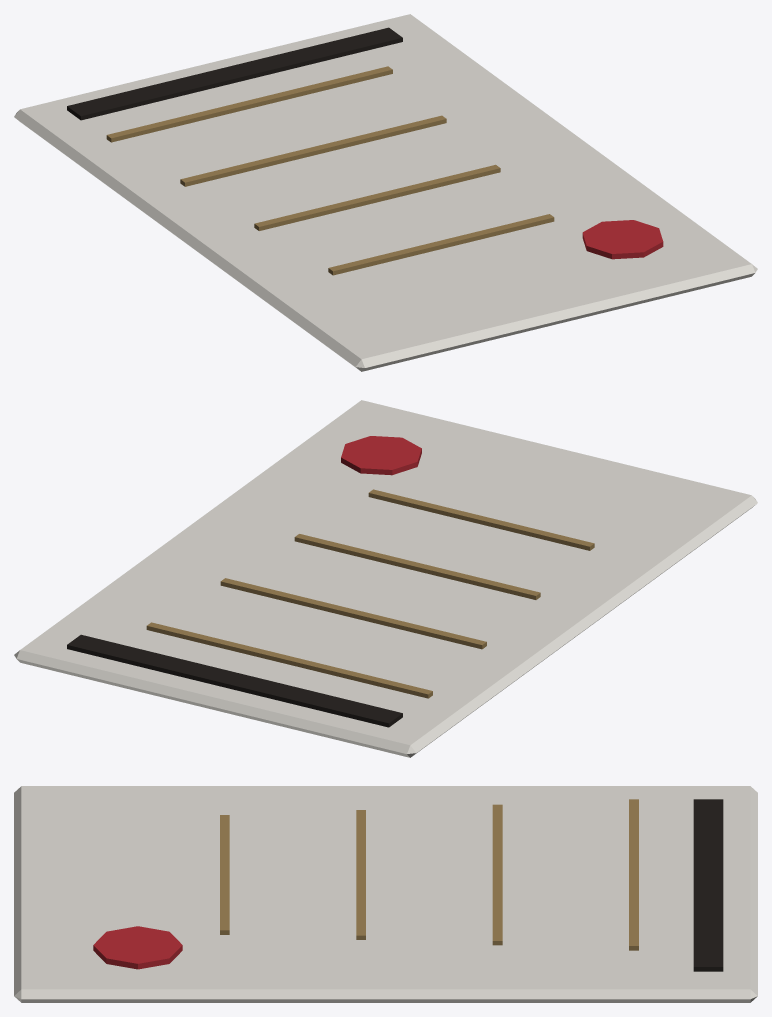
File: slip.glb
3 renders of one model, top to bottom at view 1: azimuth 30°, elevation 25°; view 2: azimuth 150°, elevation 25°; view 3: azimuth 270°, elevation 25°, orthographic. The views are drawn at different scales.
Visible parts, largest first — view 1: Paper_mesh; view 2: Paper_mesh; view 3: Paper_mesh.
Part boxes in pixels (x1,y1,x2,y2): Paper_mesh: (14, 14, 757, 371); Paper_mesh: (14, 400, 757, 757); Paper_mesh: (14, 786, 757, 1002).
Size of the model in its own units: 0.2 by 0.0085 by 0.3.
